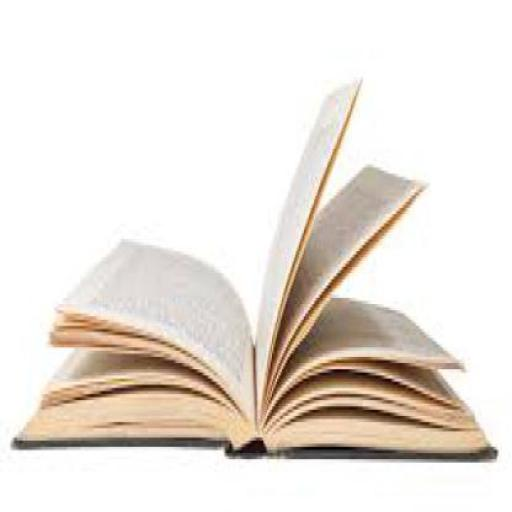paper: (9, 74, 497, 460), (265, 162, 425, 434), (54, 236, 250, 429), (253, 74, 361, 416), (262, 295, 464, 431)
